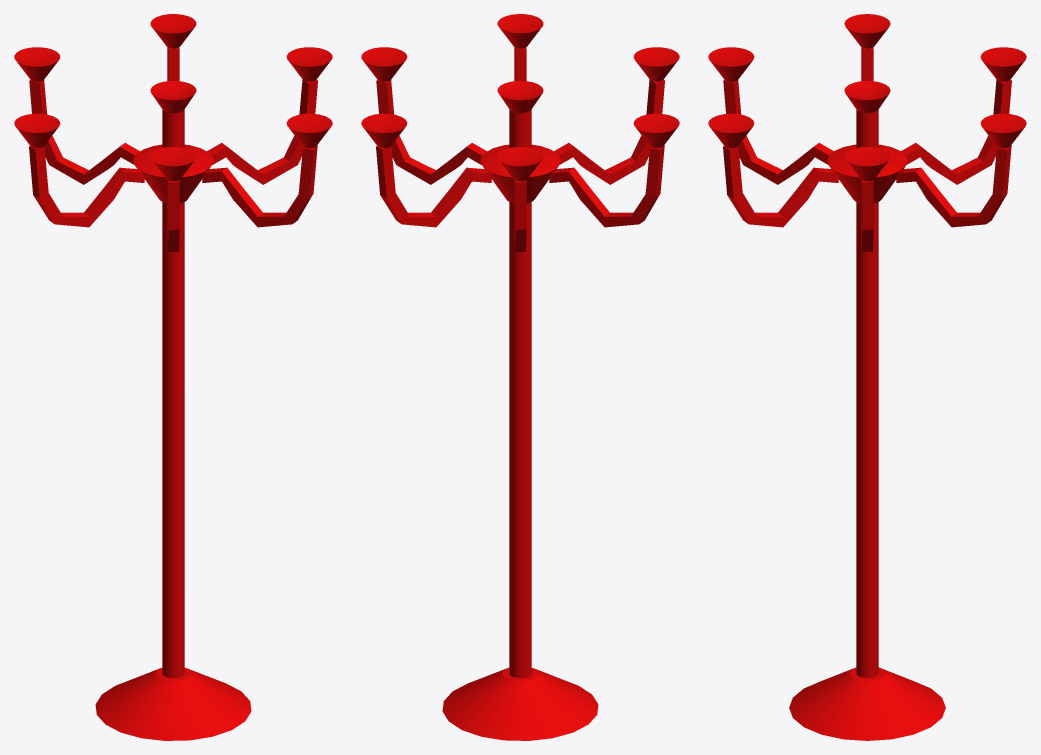
File: LightCandleHolderB01Collider.fbx
3 views of the same model, side by side, from view 1: azimuth 30°, elevation 25°; view 2: azimuth 150°, elevation 25°; view 3: azimuth 270°, elevation 25° (orthographic).
Visible parts, largest first — view 1: LightCandleHolderB01Collision; view 2: LightCandleHolderB01Collision; view 3: LightCandleHolderB01Collision.
Boxes of the visible parts, x1,y1,x2,y2 form: LightCandleHolderB01Collision: (14, 14, 332, 740); LightCandleHolderB01Collision: (361, 14, 679, 740); LightCandleHolderB01Collision: (708, 14, 1026, 740).
Bounding box in the file's own units: 83.29 × 157 × 73.57.
